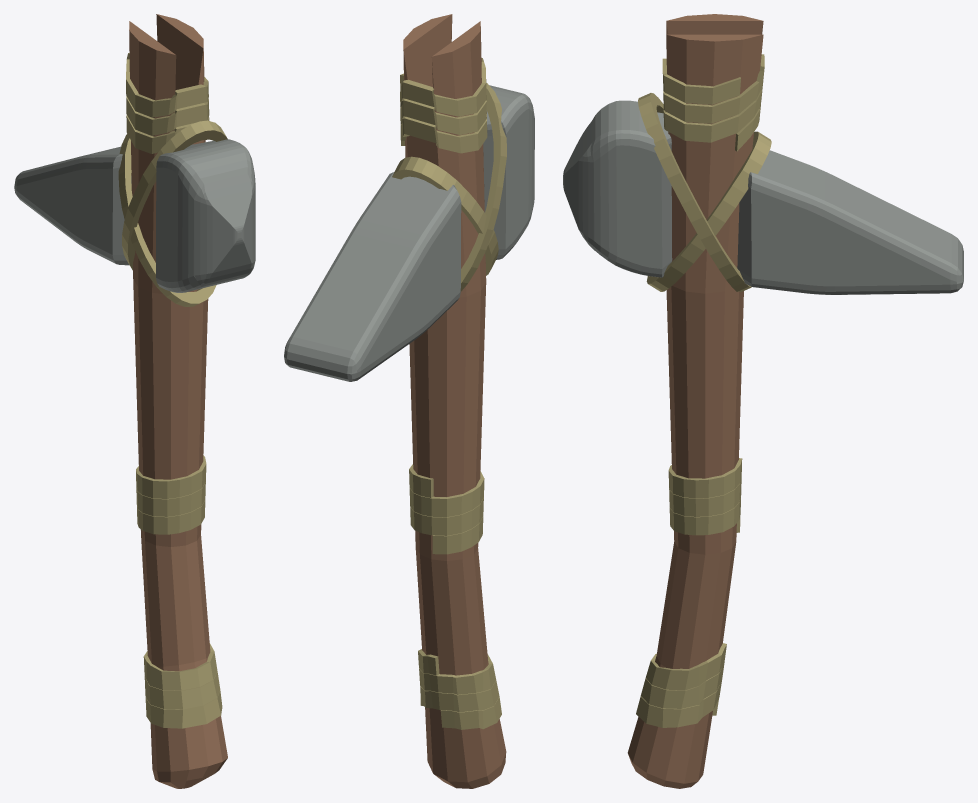
File: PickaxesALL.fbx
3 views of the same model, side by side, from view 1: azimuth 30°, elevation 25°; view 2: azimuth 150°, elevation 25°; view 3: azimuth 270°, elevation 25° (orthographic). The views are drawn at different scales.
Visible parts, largest first — view 1: PickaxeFlint; view 2: PickaxeFlint; view 3: PickaxeFlint.
Boxes of the visible parts, <box> form: PickaxeFlint: <box>14,14,255,788</box>; PickaxeFlint: <box>284,14,534,788</box>; PickaxeFlint: <box>563,14,963,788</box>.
Size of the model in its own units: 3.01 by 23.34 by 11.17.
